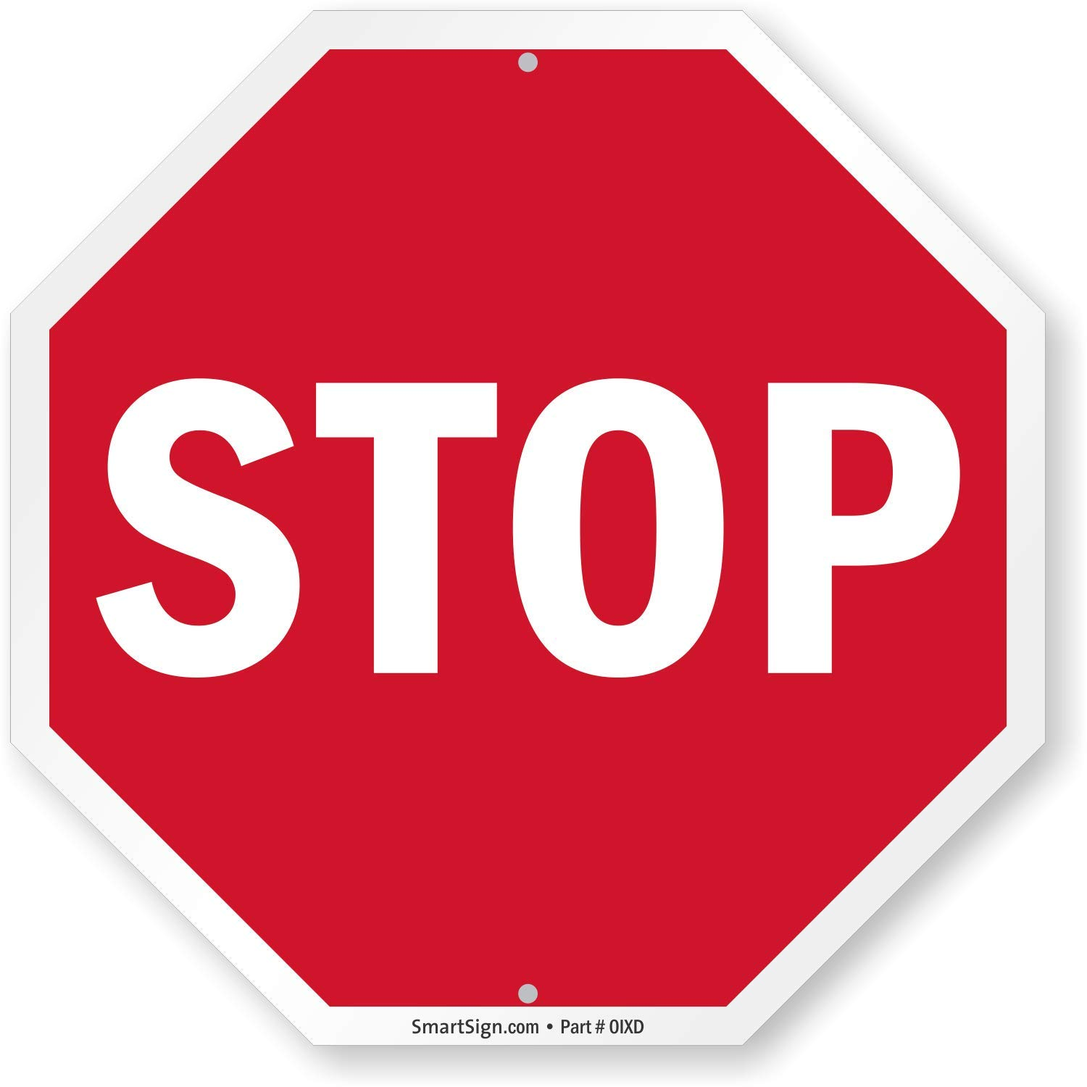SS: (30, 14, 1038, 1045)
